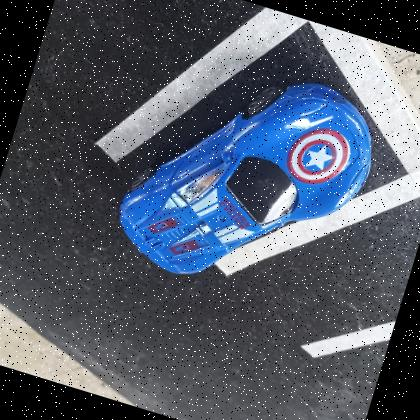Car: (118, 80, 373, 274)
